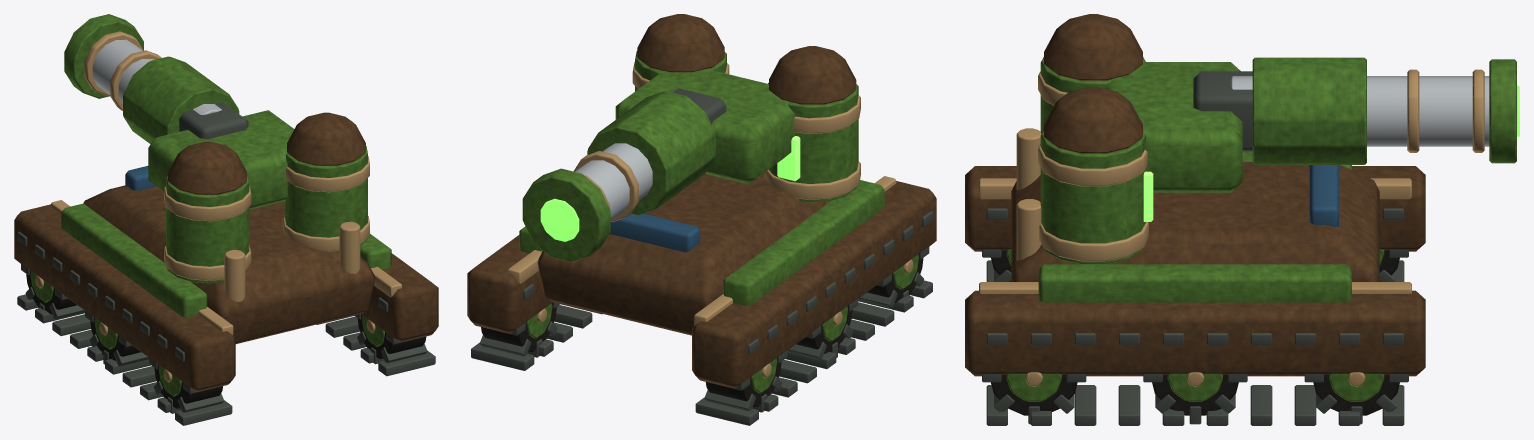
Rendered from vael_scorpion.gltf.
The picture shows the model from 3 angles, left to right: view 1: azimuth 30°, elevation 25°; view 2: azimuth 150°, elevation 25°; view 3: azimuth 270°, elevation 25°; orthographic projection. The views are drawn at different scales.
Parts seen in each view (by area): view 1: Root.030_Geometry, GunRecoil.008_Geometry, TurretYaw.013_Geometry, Track_-0.001_Geometry, Track_0.001_Geometry, Wheel_-0.7526_-0.001_Geometry, Wheel_0.7526_-0.001_Geometry, GunPitch.012_Geometry, Wheel_-0.7526_0.001_Geometry, Wheel_-0.7526_0.002_Geometry; view 2: Root.030_Geometry, GunRecoil.008_Geometry, TurretYaw.013_Geometry, Track_-0.001_Geometry, Track_0.001_Geometry, Wheel_-0.7526_0.002_Geometry, Wheel_0.7526_0.002_Geometry, Wheel_-0.7526_0.001_Geometry, Wheel_-0.7526_-0.001_Geometry, GunPitch.012_Geometry; view 3: Root.030_Geometry, GunRecoil.008_Geometry, TurretYaw.013_Geometry, Track_0.001_Geometry, Wheel_0.7526_0.001_Geometry, Wheel_0.7526_0.002_Geometry, Wheel_0.7526_-0.001_Geometry, GunPitch.012_Geometry, Track_-0.001_Geometry, Wheel_-0.7526_-0.001_Geometry, Wheel_-0.7526_0.002_Geometry.
Boxes of the visible parts, left/top/right/bottom form: Root.030_Geometry: left=14, top=112, right=438, bottom=392; GunRecoil.008_Geometry: left=64, top=14, right=239, bottom=143; TurretYaw.013_Geometry: left=148, top=110, right=294, bottom=209; Track_-0.001_Geometry: left=17, top=231, right=232, bottom=425; Track_0.001_Geometry: left=316, top=297, right=435, bottom=376; Wheel_-0.7526_-0.001_Geometry: left=149, top=357, right=227, bottom=413; Wheel_0.7526_-0.001_Geometry: left=354, top=314, right=430, bottom=364; GunPitch.012_Geometry: left=179, top=102, right=248, bottom=139; Wheel_-0.7526_0.001_Geometry: left=85, top=311, right=148, bottom=366; Wheel_-0.7526_0.002_Geometry: left=21, top=264, right=84, bottom=319; Root.030_Geometry: left=467, top=14, right=936, bottom=388; GunRecoil.008_Geometry: left=522, top=91, right=715, bottom=262; TurretYaw.013_Geometry: left=615, top=69, right=794, bottom=184; Track_-0.001_Geometry: left=695, top=211, right=932, bottom=425; Track_0.001_Geometry: left=471, top=284, right=602, bottom=370; Wheel_-0.7526_0.002_Geometry: left=700, top=350, right=787, bottom=412; Wheel_0.7526_0.002_Geometry: left=475, top=302, right=560, bottom=357; Wheel_-0.7526_0.001_Geometry: left=787, top=299, right=858, bottom=360; Wheel_-0.7526_-0.001_Geometry: left=858, top=247, right=929, bottom=308; GunPitch.012_Geometry: left=673, top=88, right=726, bottom=124; Root.030_Geometry: left=965, top=14, right=1425, bottom=376; GunRecoil.008_Geometry: left=1230, top=57, right=1519, bottom=164; TurretYaw.013_Geometry: left=1105, top=62, right=1242, bottom=192; Track_0.001_Geometry: left=986, top=333, right=1404, bottom=425; Wheel_0.7526_0.001_Geometry: left=1143, top=372, right=1247, bottom=424; Wheel_0.7526_0.002_Geometry: left=1304, top=372, right=1408, bottom=424; Wheel_0.7526_-0.001_Geometry: left=982, top=372, right=1086, bottom=424; GunPitch.012_Geometry: left=1193, top=71, right=1252, bottom=151; Track_-0.001_Geometry: left=986, top=208, right=1404, bottom=281; Wheel_-0.7526_-0.001_Geometry: left=982, top=249, right=1011, bottom=281; Wheel_-0.7526_0.002_Geometry: left=1379, top=249, right=1408, bottom=281.
Size of the model in its own units: 1.88 by 1.66 by 2.83.
Materials: 8 (3 with a texture image).
